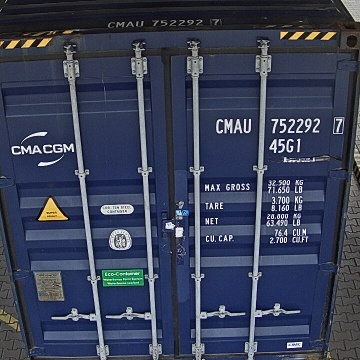serial_id: (216, 117, 344, 133)
